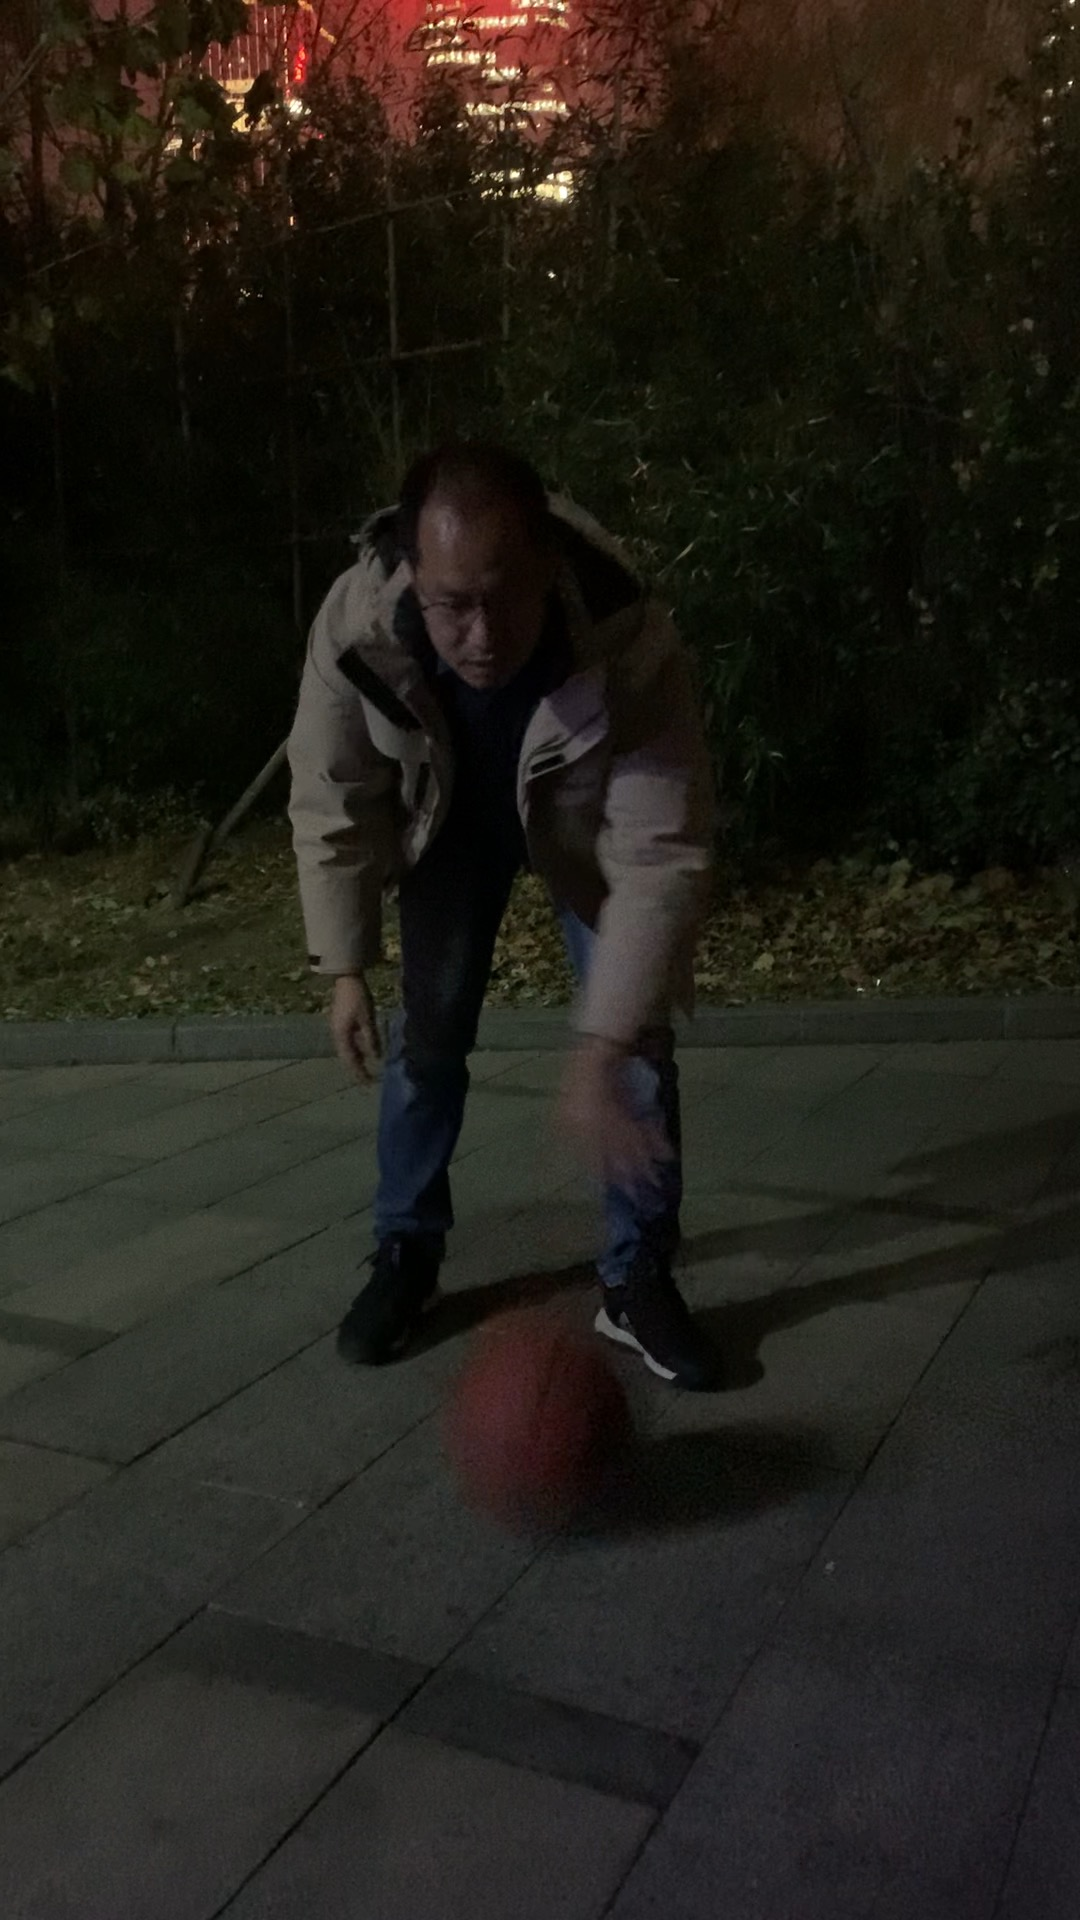ball: (450, 1319, 655, 1534)
